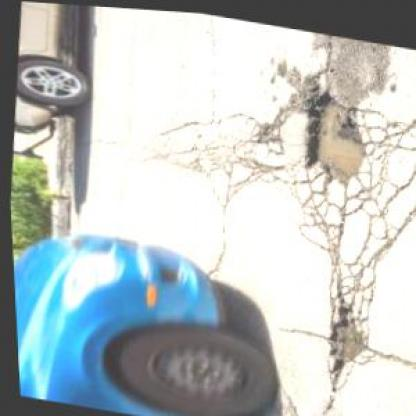pothole: (281, 80, 369, 180), (316, 292, 369, 367)
